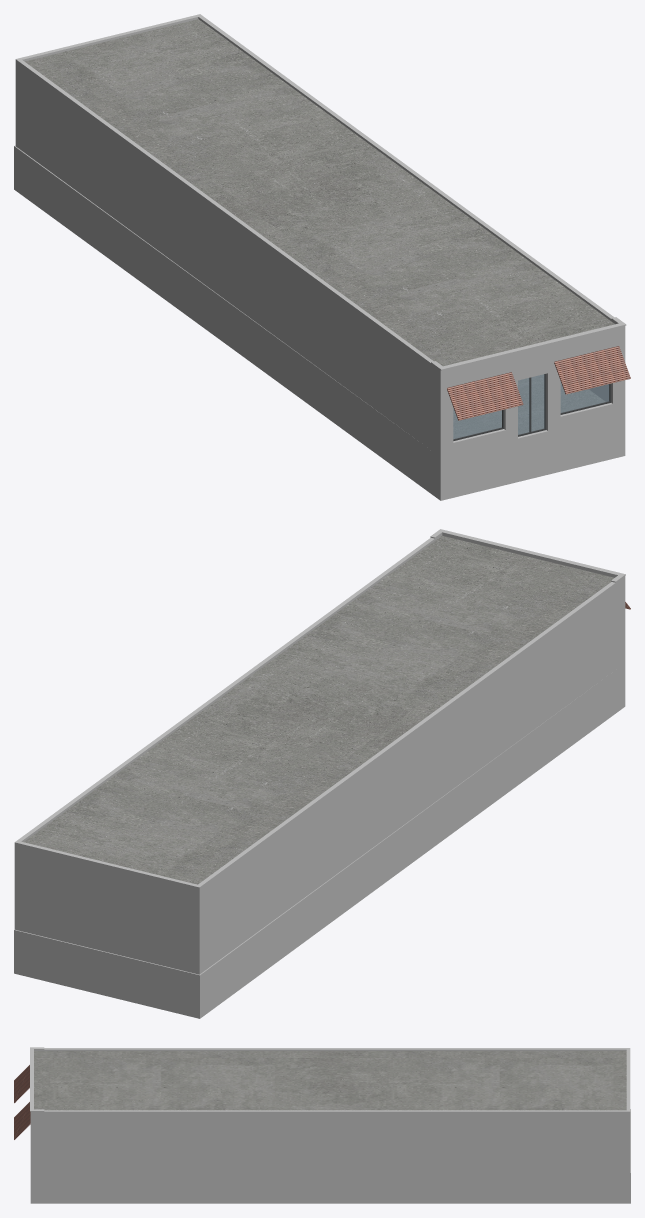
The model's file is A23_Building04.fbx.
3 renders of one model, top to bottom at view 1: azimuth 30°, elevation 25°; view 2: azimuth 150°, elevation 25°; view 3: azimuth 270°, elevation 25°, orthographic. The views are drawn at different scales.
Parts seen in each view (by area): view 1: BD1667, BD1661; view 2: BD1667; view 3: BD1667, BD1661.
Boxes of the visible parts, x1,y1,x2,y2 form: BD1667: (14,14,626,500); BD1661: (447,346,630,420); BD1667: (14,529,625,1018); BD1667: (30,1047,630,1203); BD1661: (14,1065,30,1139).
Size of the model in its own units: 8.95 by 6.05 by 36.44.
